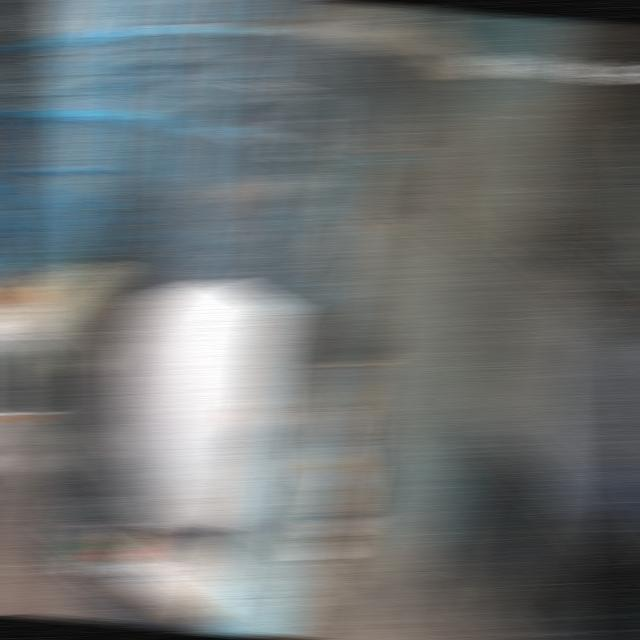cement_mixer_truck: (0, 261, 388, 640)
swing_chute: (290, 122, 420, 350)
